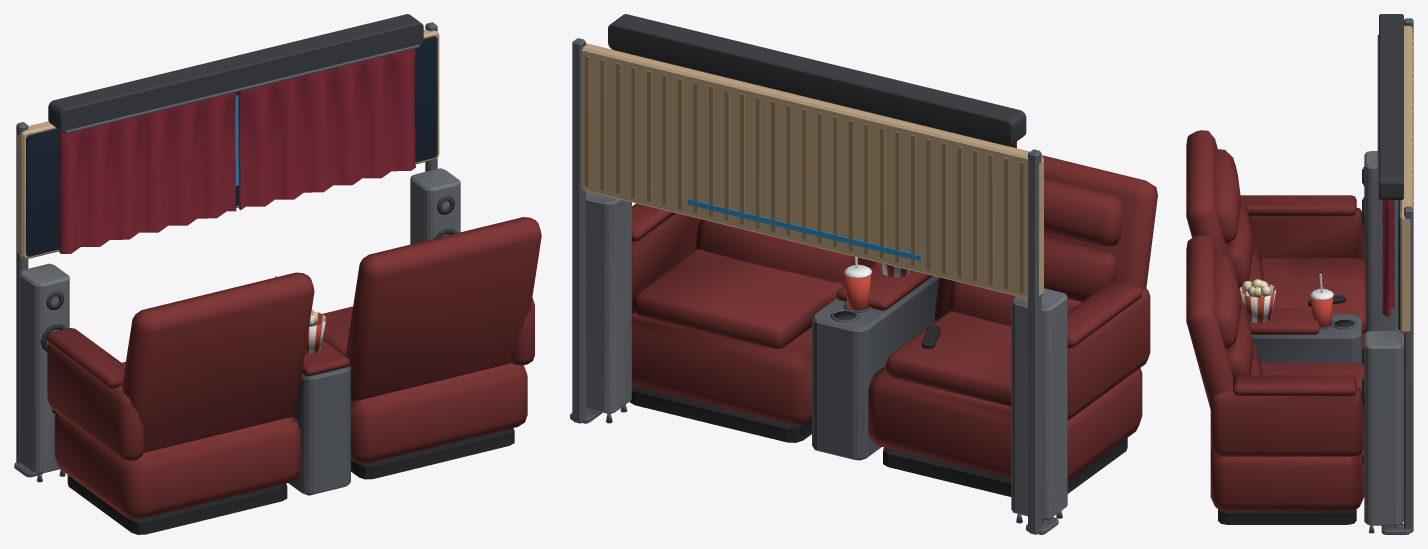
The model's file is cinemaWall.glb.
3 views of the same model, side by side, from view 1: azimuth 30°, elevation 25°; view 2: azimuth 150°, elevation 25°; view 3: azimuth 270°, elevation 25° (orthographic). The views are drawn at different scales.
Visible parts, largest first — view 1: body, curtain_left, curtain_right; view 2: body; view 3: body, curtain_right.
Boxes of the visible parts, x1,y1,x2,y2 form: body: (14, 14, 541, 534); curtain_left: (59, 92, 236, 253); curtain_right: (238, 48, 415, 209); body: (570, 14, 1157, 534); body: (1186, 14, 1413, 534); curtain_right: (1382, 200, 1394, 316).
Bounding box in the file's own units: 1.88 × 1.52 × 0.9182.
